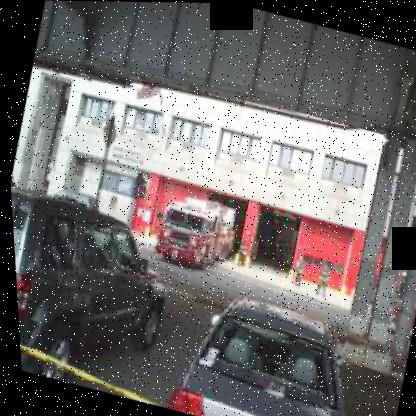emergency: (141, 179, 248, 282)
not_emergency: (8, 178, 194, 404), (155, 270, 382, 415)
